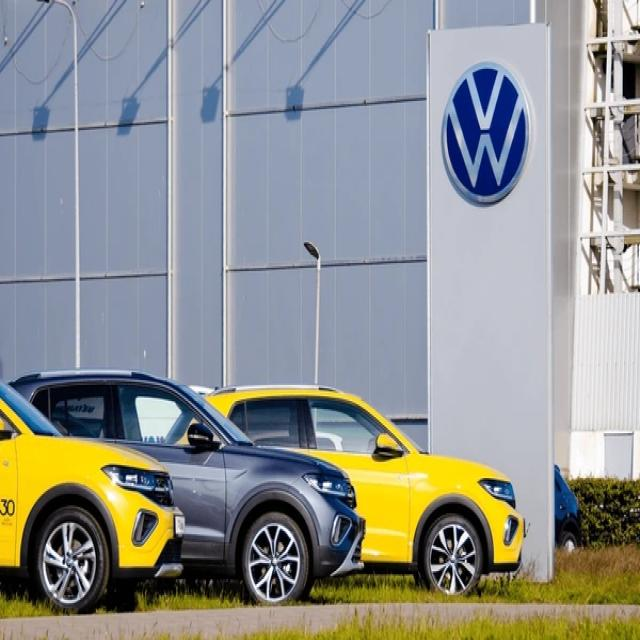wolksvogen: (439, 64, 546, 208)
